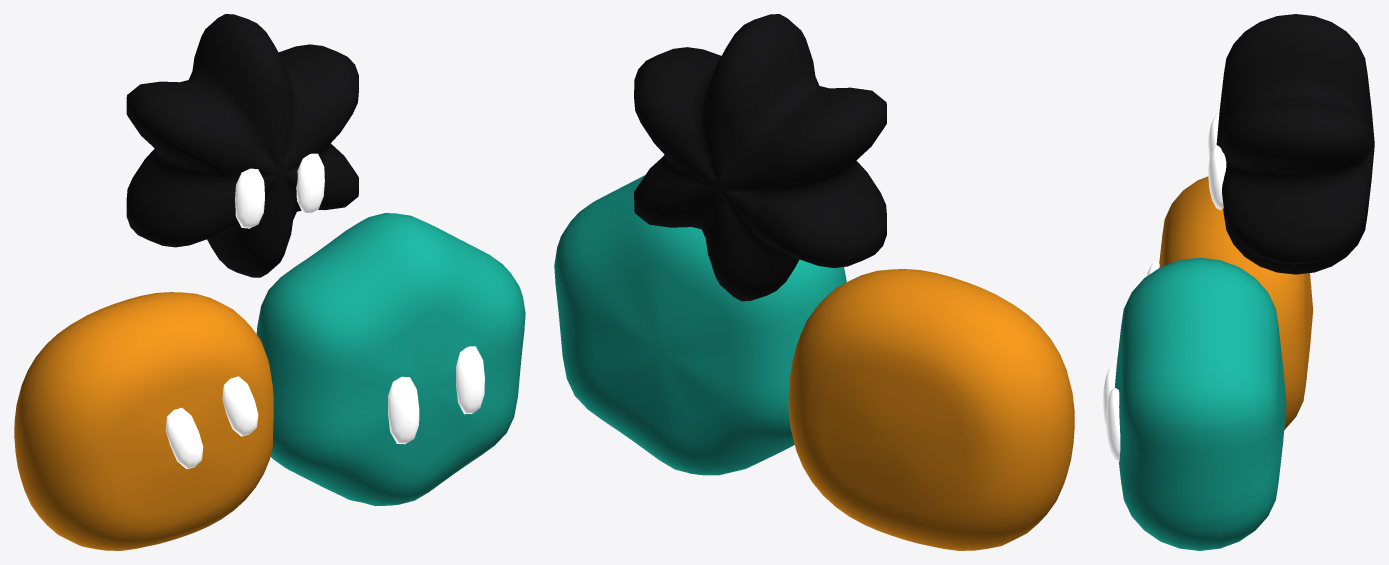
The model's file is trendy-x.glb.
3 views of the same model, side by side, from view 1: azimuth 30°, elevation 25°; view 2: azimuth 150°, elevation 25°; view 3: azimuth 270°, elevation 25° (orthographic). The views are drawn at different scales.
Parts seen in each view (by area): view 1: body, extra, eye_L, eye_R; view 2: body; view 3: body, extra, eye_R, eye_L.
Boxes of the visible parts, x1,y1,x2,y2 form: body: (14, 14, 525, 550); extra: (165, 153, 324, 469); eye_L: (388, 376, 419, 444); eye_R: (456, 346, 484, 414); body: (554, 14, 1074, 550); body: (1114, 14, 1374, 550); extra: (1146, 114, 1226, 276); eye_R: (1106, 387, 1120, 461); eye_L: (1103, 366, 1116, 429).
Bounding box in the file's own units: 0.8193 × 0.7607 × 0.3967.
